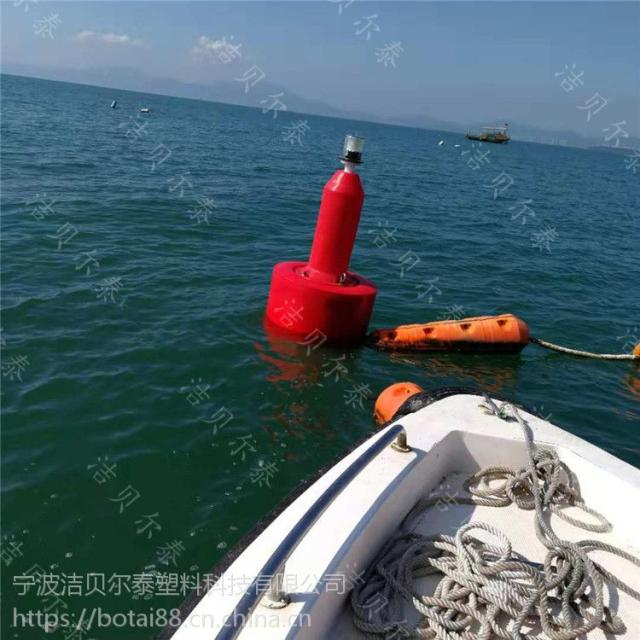buoy: (262, 129, 379, 345)
